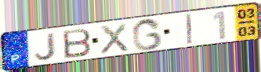1: (212, 10, 227, 41)
B: (61, 27, 93, 60)
G: (131, 17, 164, 52)
I: (185, 13, 194, 46)
J: (34, 31, 57, 62)
X: (99, 22, 131, 56)
